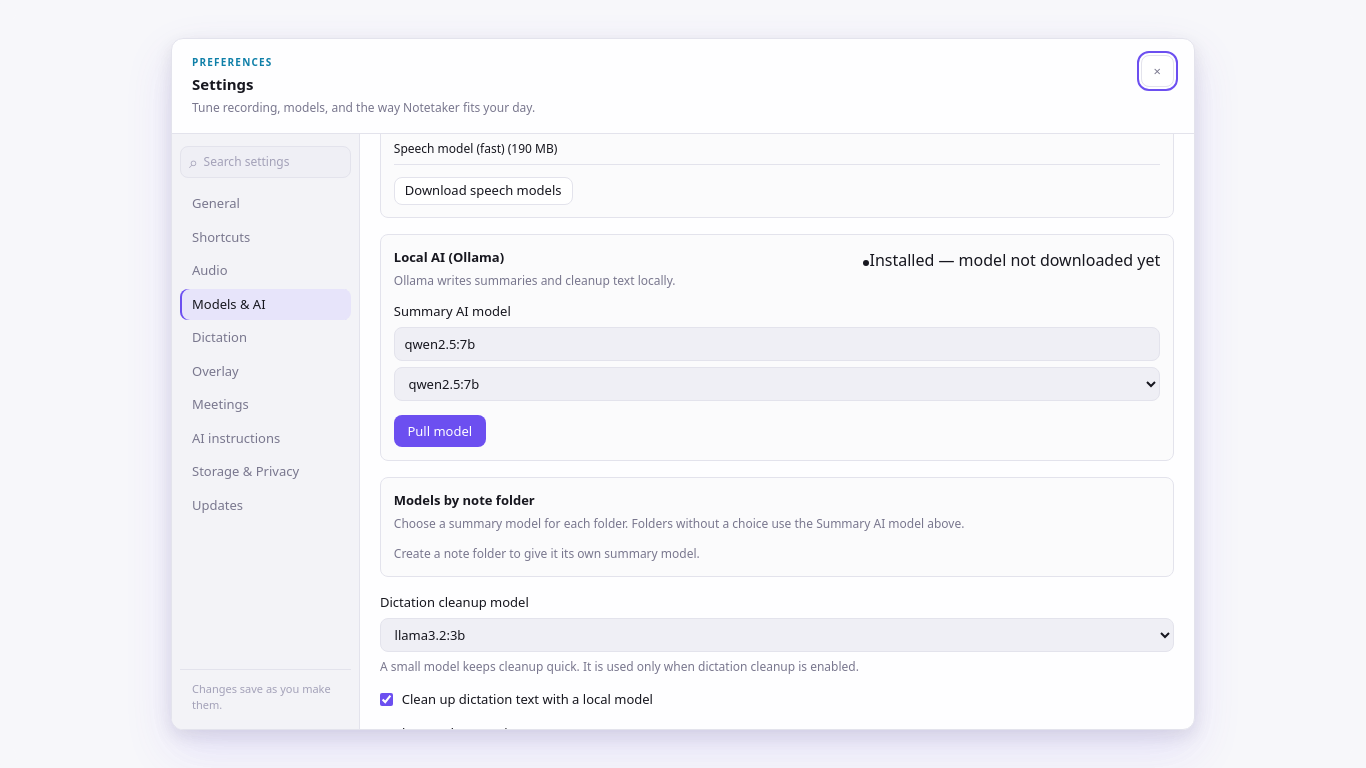
Test: Settings screen › surfaces a failed pull's error text instead of leaving a stuck progress bar
(page scrolled)
Click the button "Pull model" at (440,432), box [394, 416, 486, 448]
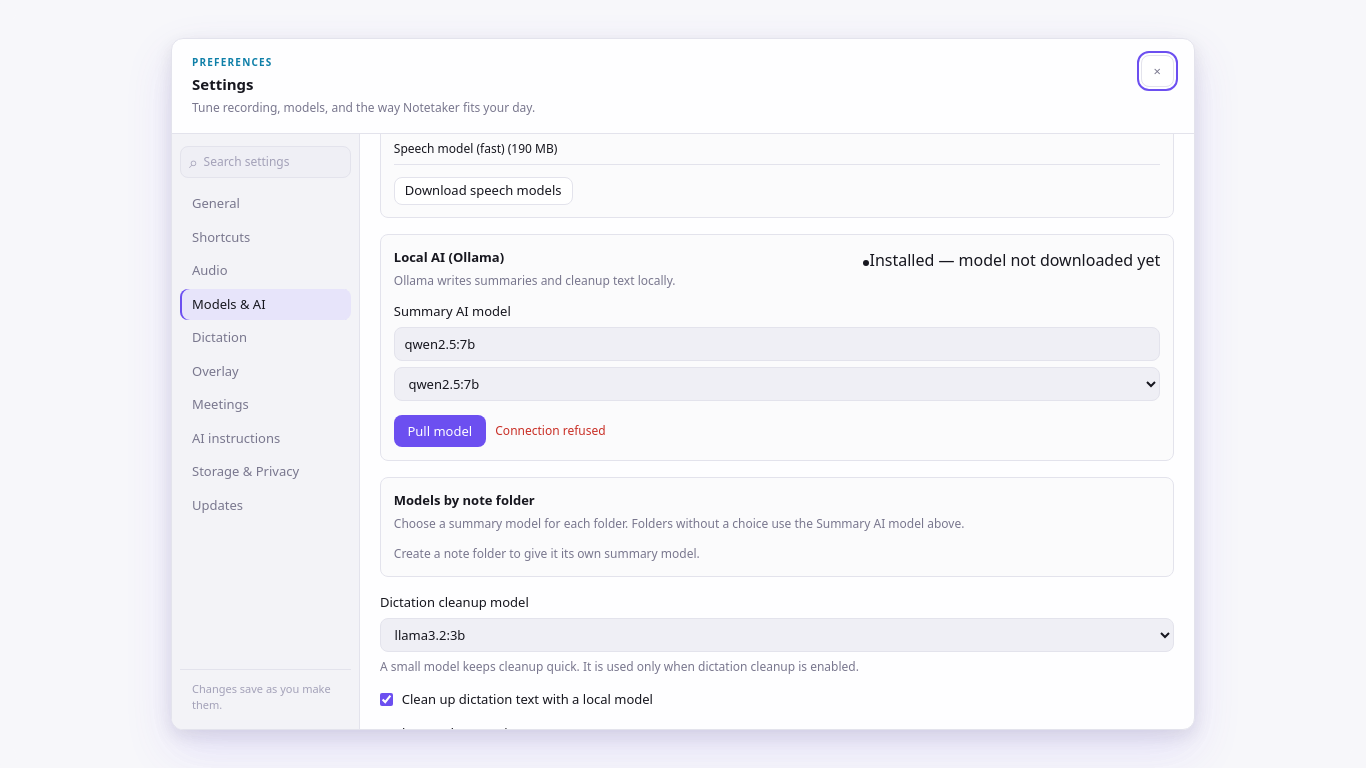
Result: the text "Connection refused" is shown at [495, 422, 606, 440]
